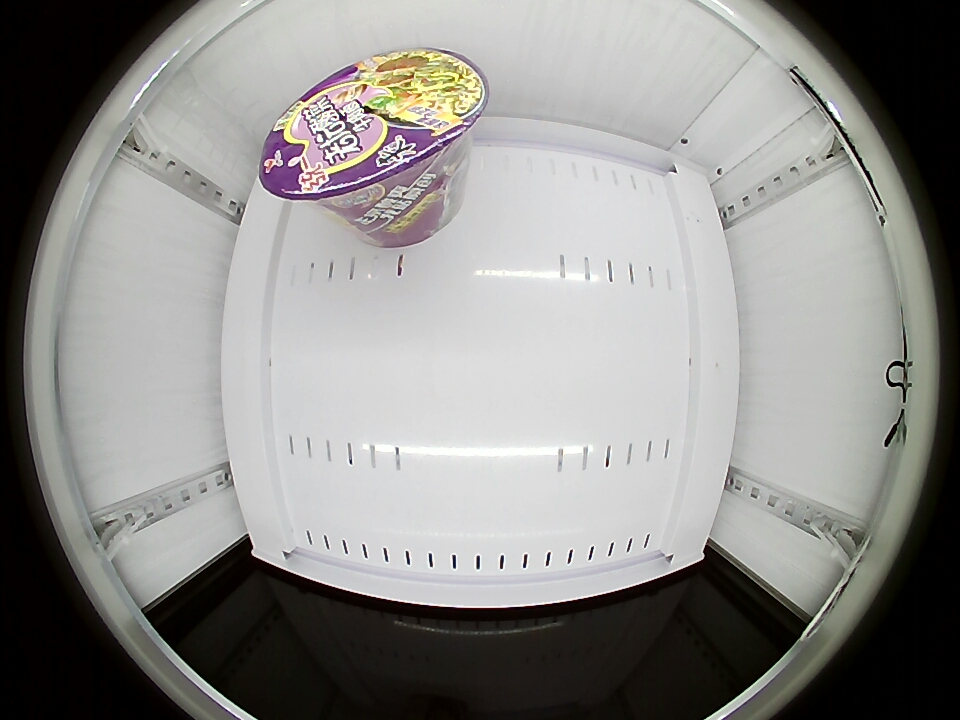laotansuancai: (259, 47, 487, 210)
